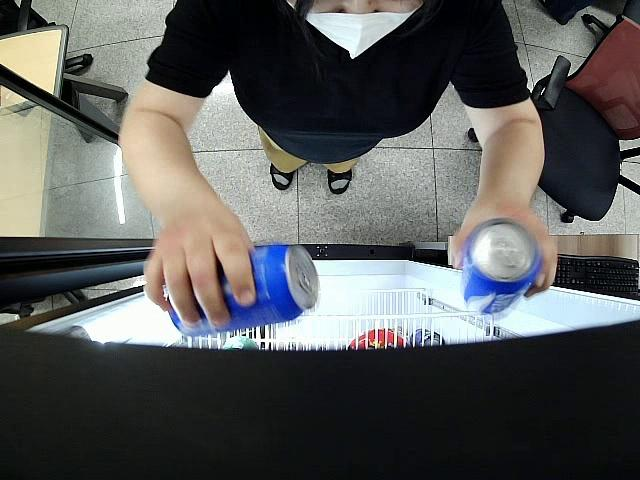00_hand: (144, 203, 257, 335), (450, 193, 557, 301)
13_pocariSweat: (167, 244, 319, 336), (458, 218, 539, 318)
